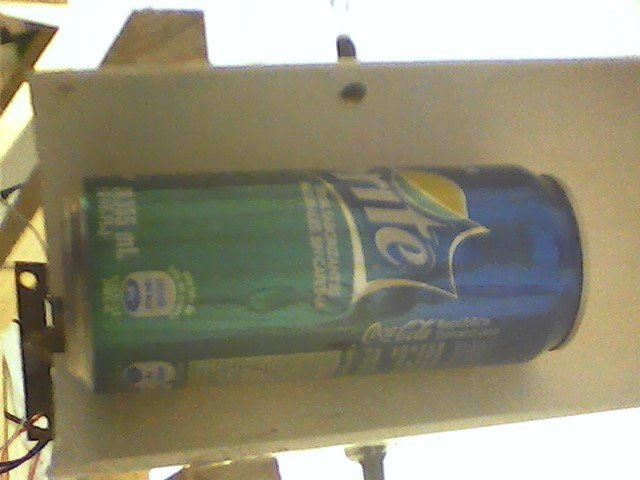lata: (48, 159, 603, 399)
